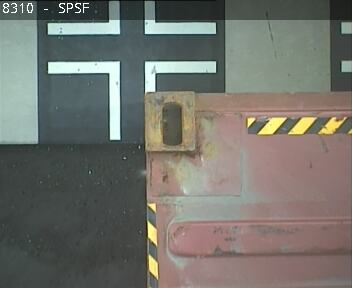groundmarker_1: (49, 59, 215, 139)
